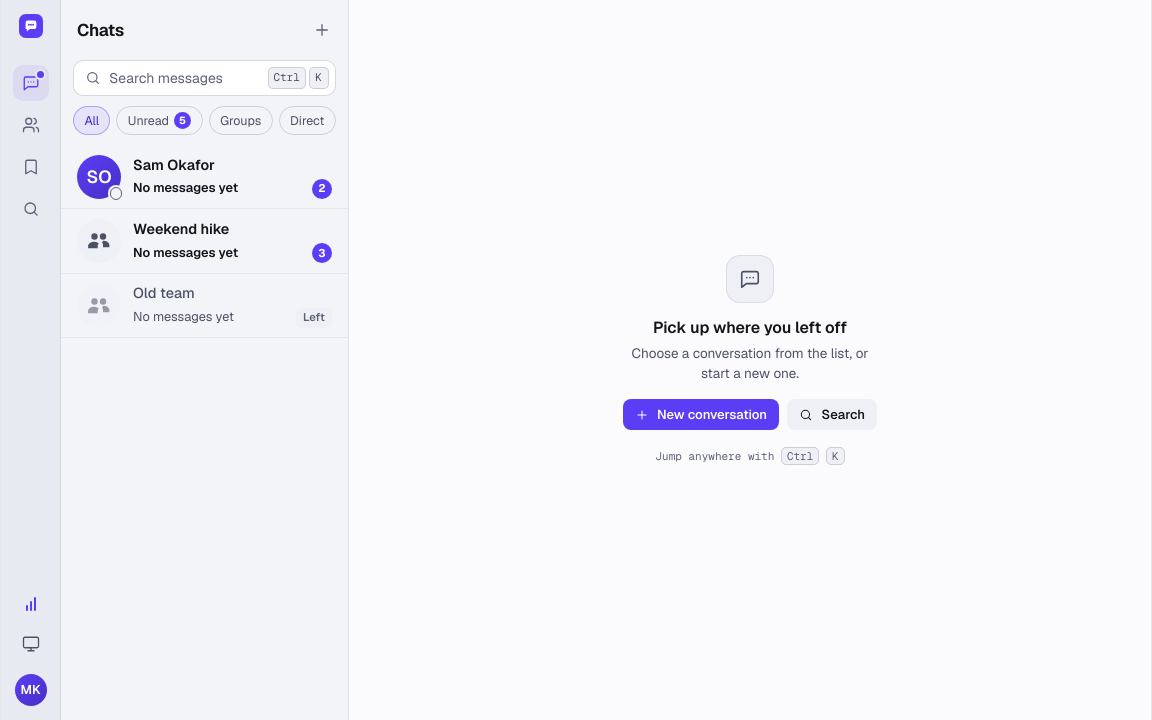
the Chats screen › opens New group from the same sheet
The image size is (1152, 720).
// The start screen beside the list offers the same sheet.
Click the button "New conversation" at (701, 415), box [623,399,779,430]
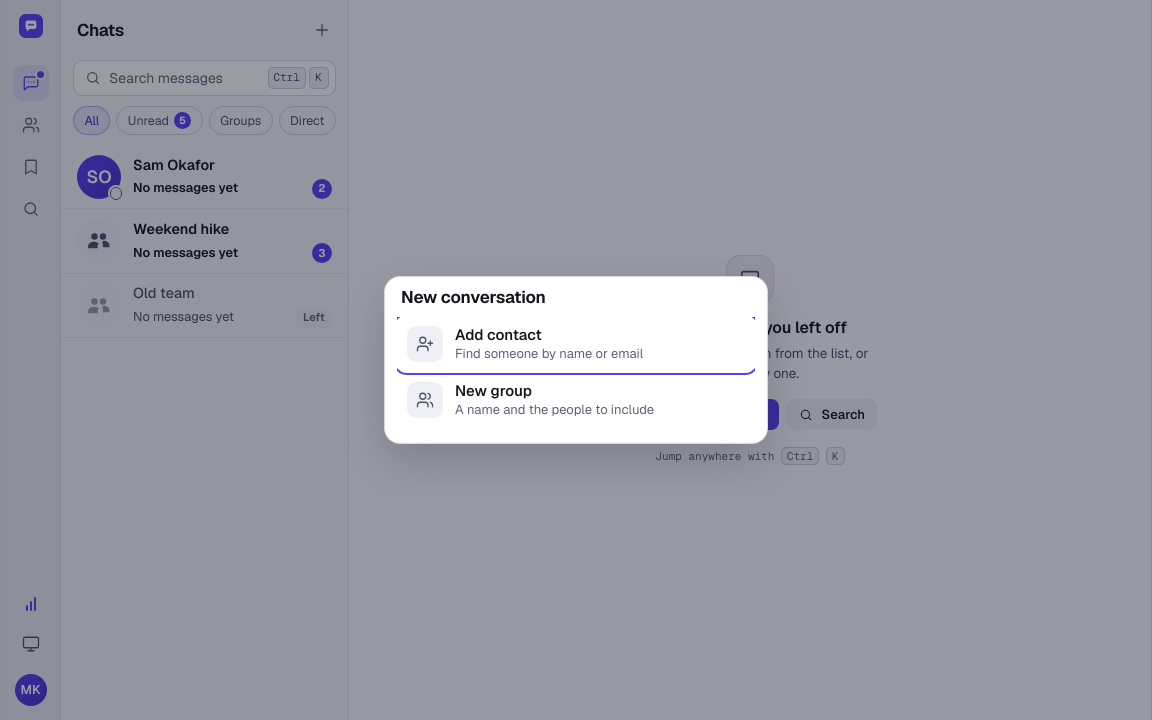
Click the button "New group A name and the people to include" at (576, 400), box [397,373,755,427]
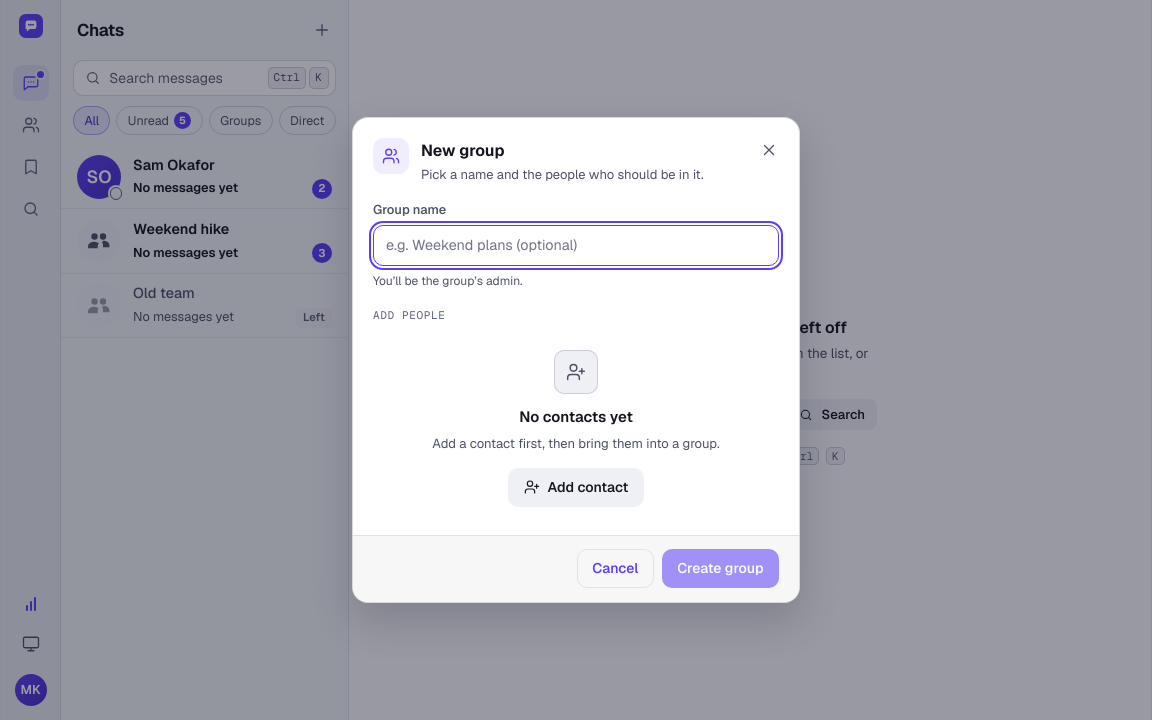
expect the dialog "New group" is shown: met, box [352,117,800,603]
